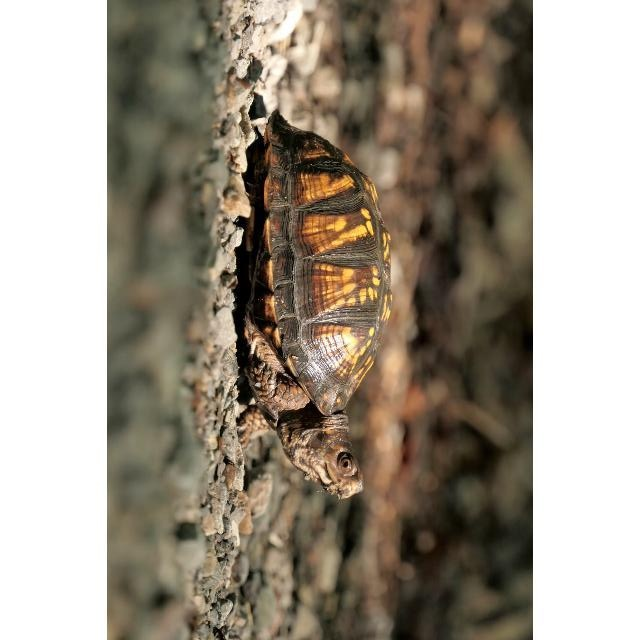turtle: (237, 109, 391, 499)
